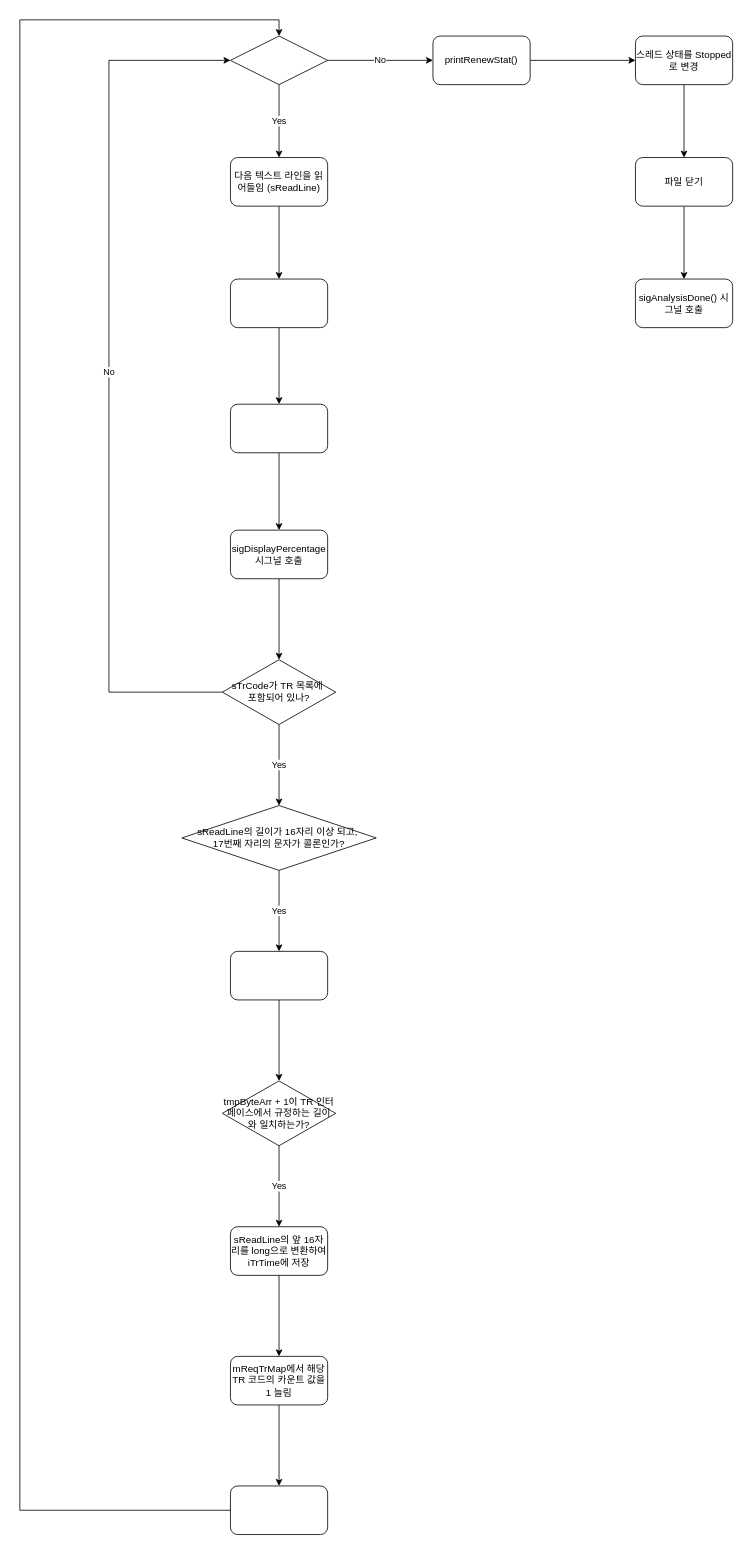
This 747x1549 diagram has some shape labels left out. Here are the shapes that lost their labels. From the top down, the box of each, then its label:
(230, 35, 328, 85): 읽어들일 텍스트 스트림이 남았나?
(230, 278, 328, 328): 읽어들인 텍스트 라인을 TR 코드 (sTrCode)와 본문 (sTrText)으로 나누기
(230, 403, 328, 453): 읽어들인 텍스트의 사이즈를 이용해 현재까지 파일을 몇% 읽었나 계산
(230, 951, 328, 1000): tmpByteArr = sTrText.toLocal8Bit();
(230, 1485, 328, 1535): 전체 TR 카운트 값을 1 늘림
